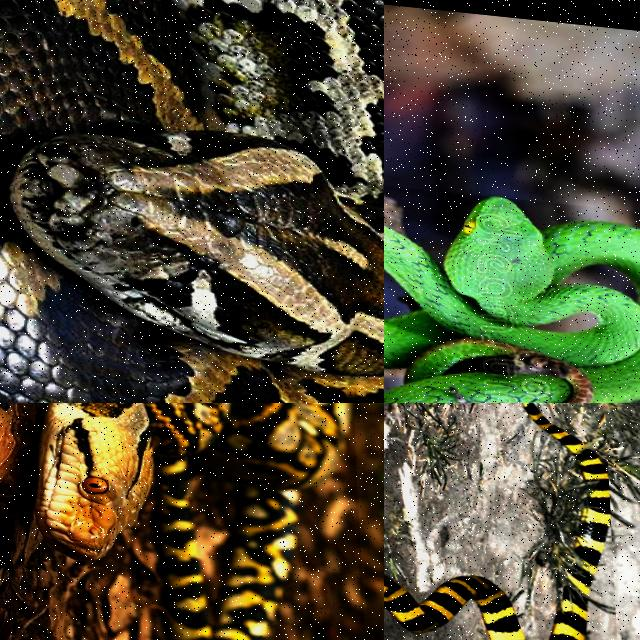Bungarus fasciatus: (518, 403, 608, 639)
Malayopython reticulatus: (36, 403, 350, 639)
Python bivittatus: (0, 0, 383, 402)
Trimeresurus macrops: (384, 198, 639, 402)
snake: (0, 0, 383, 402), (36, 403, 350, 639), (384, 198, 639, 402), (518, 403, 608, 639)
